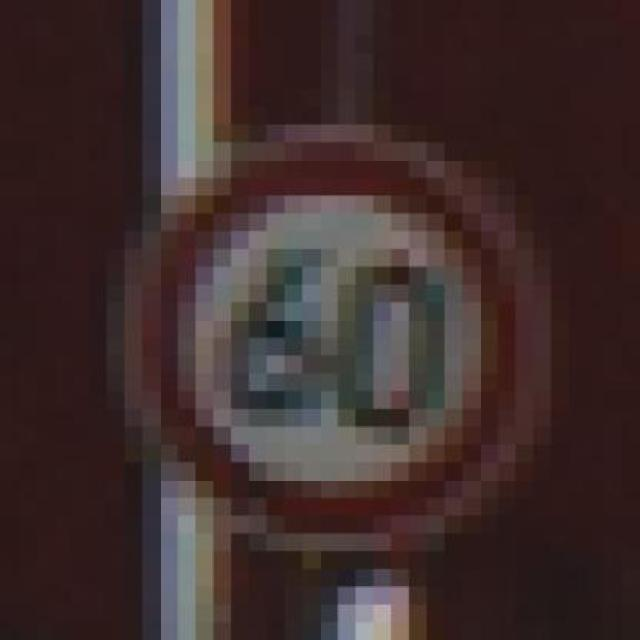forb_speed_over_60: (143, 141, 523, 536)
